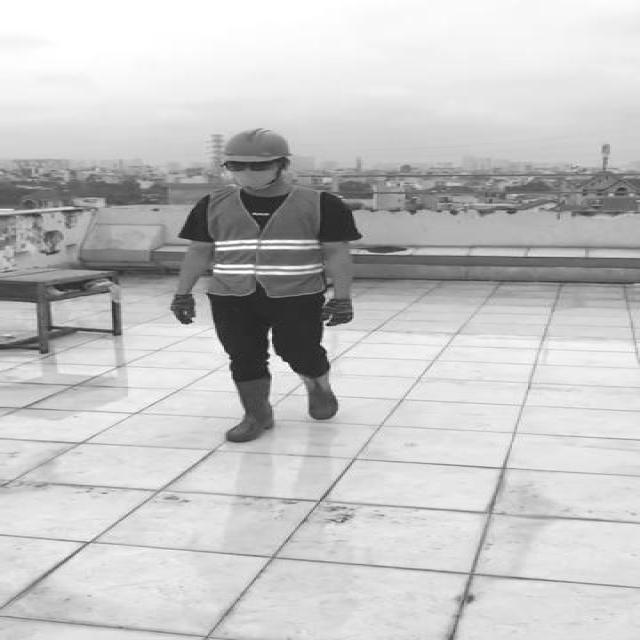boots: (220, 376, 276, 442), (298, 372, 339, 421)
face_mask: (220, 154, 286, 188)
glasses: (222, 156, 278, 174)
hand_glove: (318, 295, 354, 327), (171, 291, 197, 325)
head_helmet: (219, 124, 293, 164)
person: (166, 124, 362, 446)
vest: (204, 186, 322, 297)
